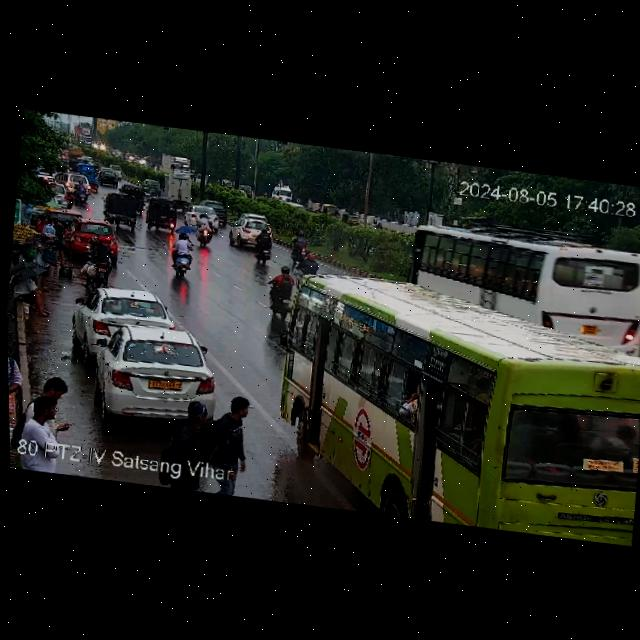bus: (260, 269, 640, 547), (397, 207, 640, 344)
car: (73, 317, 227, 432), (77, 283, 172, 348), (67, 218, 124, 253), (141, 195, 186, 233), (106, 191, 147, 229), (230, 218, 274, 249), (52, 166, 90, 199), (140, 174, 163, 199), (94, 165, 122, 185), (237, 211, 273, 226), (127, 186, 146, 213), (197, 196, 228, 210), (319, 202, 339, 218), (342, 212, 361, 227)
motorcycle: (164, 230, 199, 279), (81, 233, 116, 281), (286, 233, 319, 278), (267, 263, 294, 317), (243, 230, 277, 264), (193, 216, 221, 249), (73, 180, 89, 205)
person: (199, 394, 263, 481), (169, 397, 218, 492), (22, 373, 80, 448), (8, 261, 54, 316), (7, 336, 26, 463), (38, 372, 68, 399)
truck: (161, 172, 196, 204)
